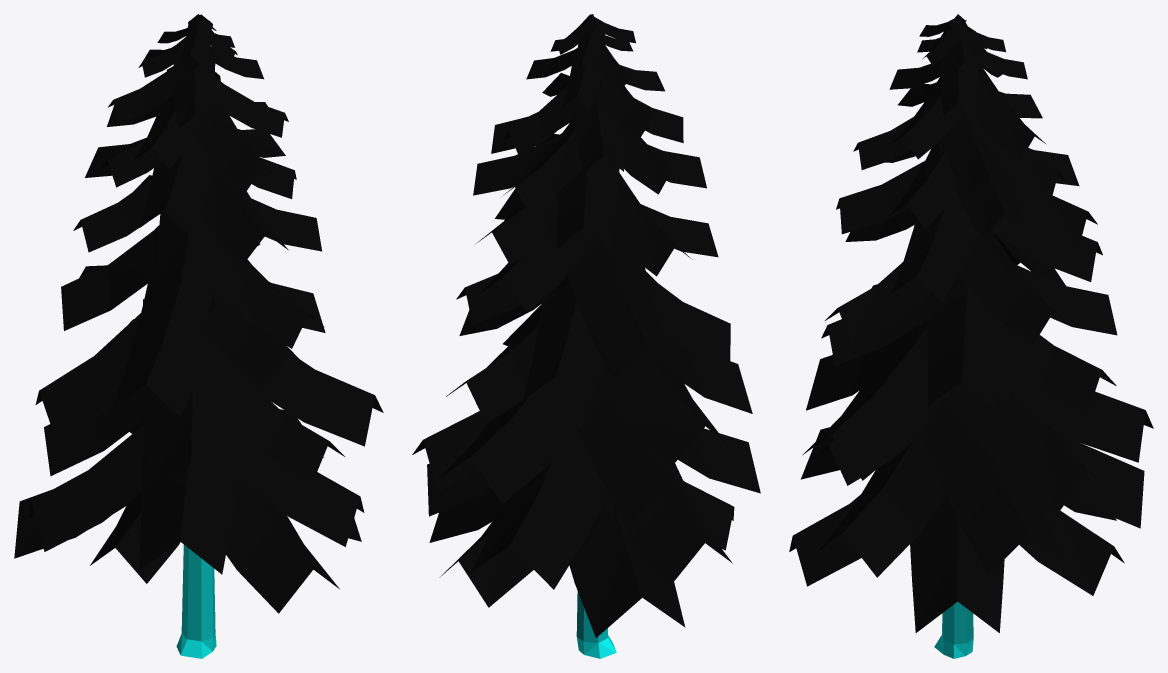
Rendered from PineTree03.fbx.
3 renders of one model, left to right at view 1: azimuth 30°, elevation 25°; view 2: azimuth 150°, elevation 25°; view 3: azimuth 270°, elevation 25°, orthographic.
Parts seen in each view (by area): view 1: PineTree03_LOD0; view 2: PineTree03_LOD0; view 3: PineTree03_LOD0.
Part boxes in pixels (bbox=[...]): PineTree03_LOD0: bbox=[14, 14, 383, 658]; PineTree03_LOD0: bbox=[412, 14, 760, 658]; PineTree03_LOD0: bbox=[789, 14, 1153, 658].
Size of the model in its own units: 476 by 982 by 509.
